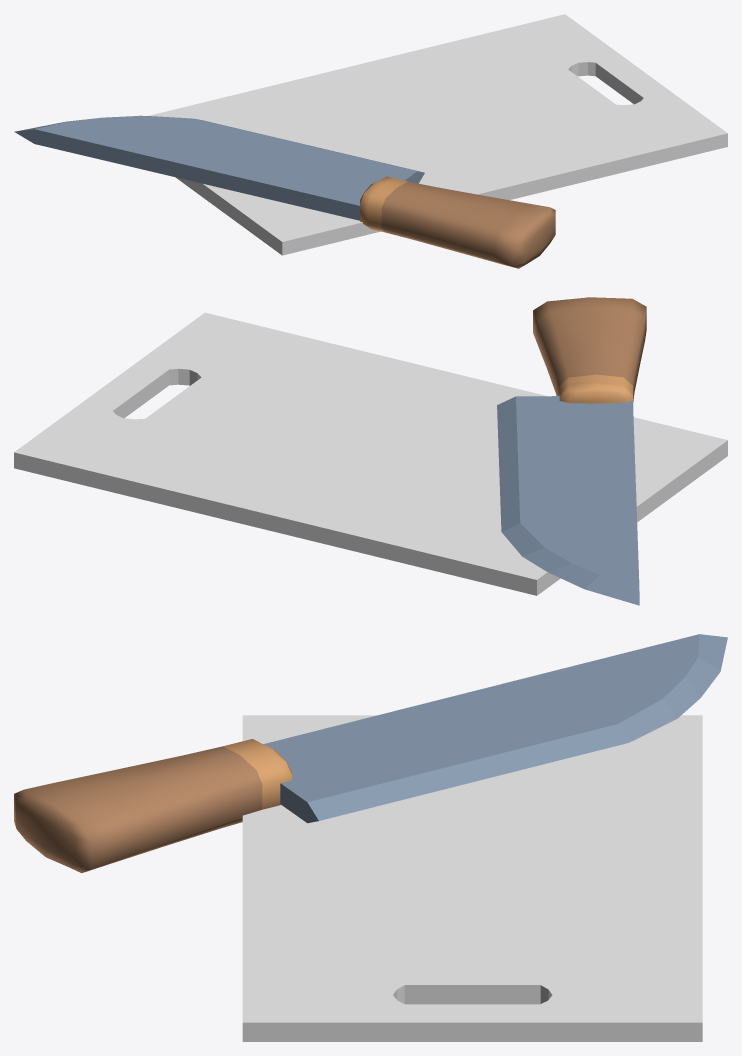
Rendered from cc0-cutting-table-lod0.glb.
3 renders of one model, top to bottom at view 1: azimuth 30°, elevation 25°; view 2: azimuth 150°, elevation 25°; view 3: azimuth 270°, elevation 25°, orthographic. The views are drawn at different scales.
Parts seen in each view (by area): view 1: part_0; view 2: part_0; view 3: part_0.
Boxes of the visible parts, bbox=[...] form: part_0: bbox=[14, 14, 727, 268]; part_0: bbox=[14, 297, 727, 605]; part_0: bbox=[14, 634, 727, 1041].
Size of the model in its own units: 2.1 by 0.1515 by 1.69.
Materials: 1 (1 with a texture image).
